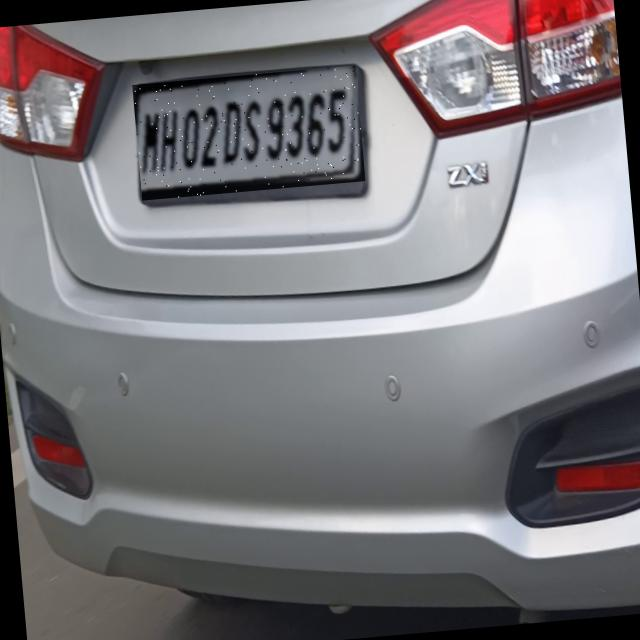Plate: (133, 66, 366, 201)
